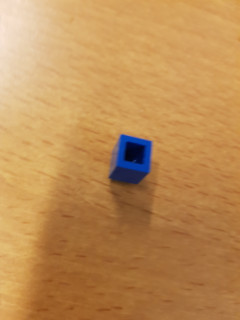1x1 blue: (108, 134, 153, 185)
